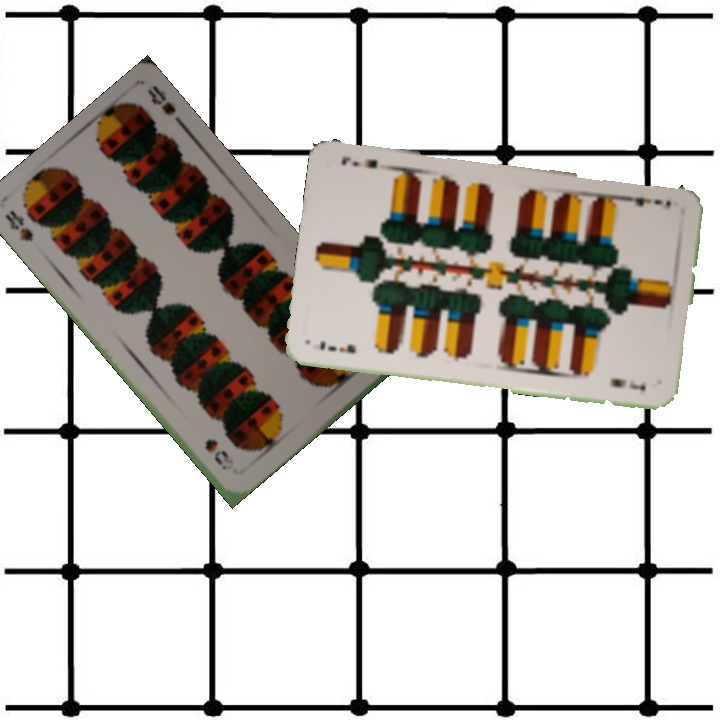E7: (620, 191, 673, 212), (315, 336, 358, 356)
S8: (1, 205, 36, 244)
